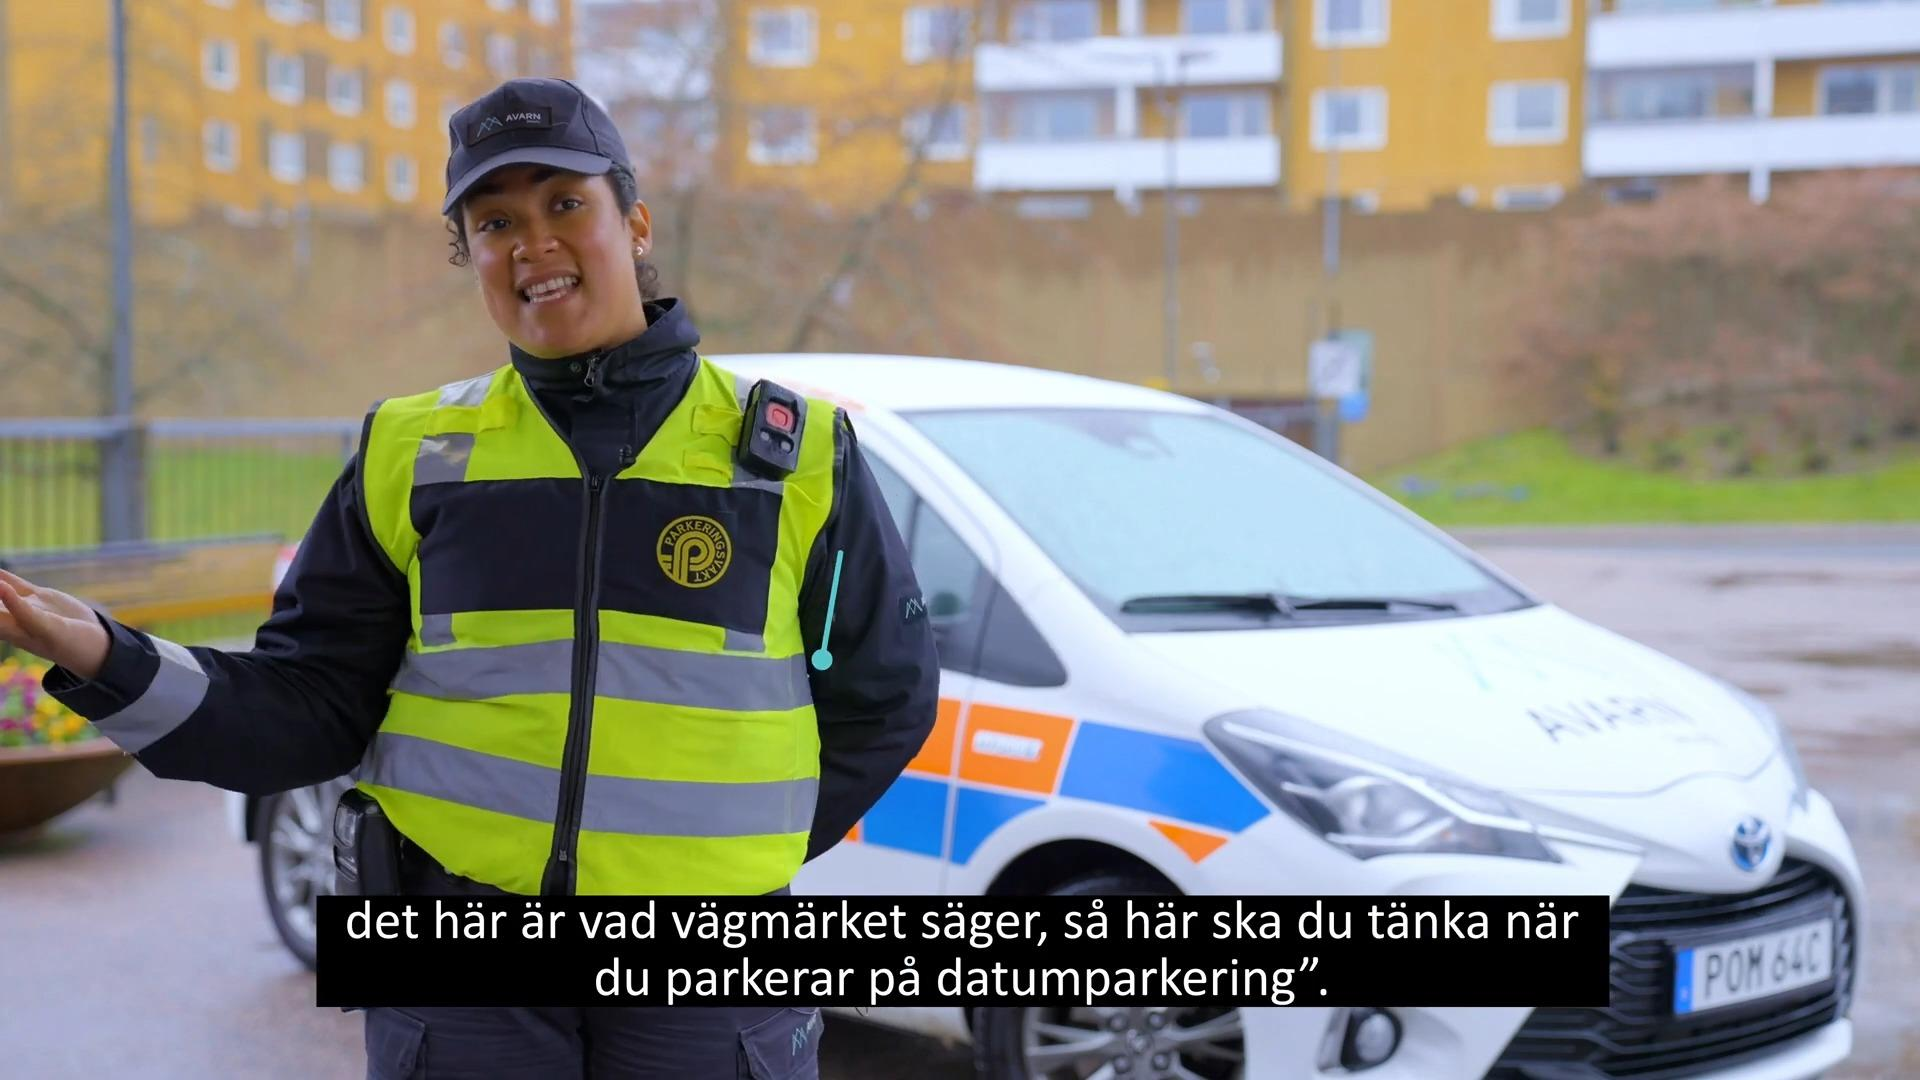parking-attendant: (0, 78, 938, 895)
